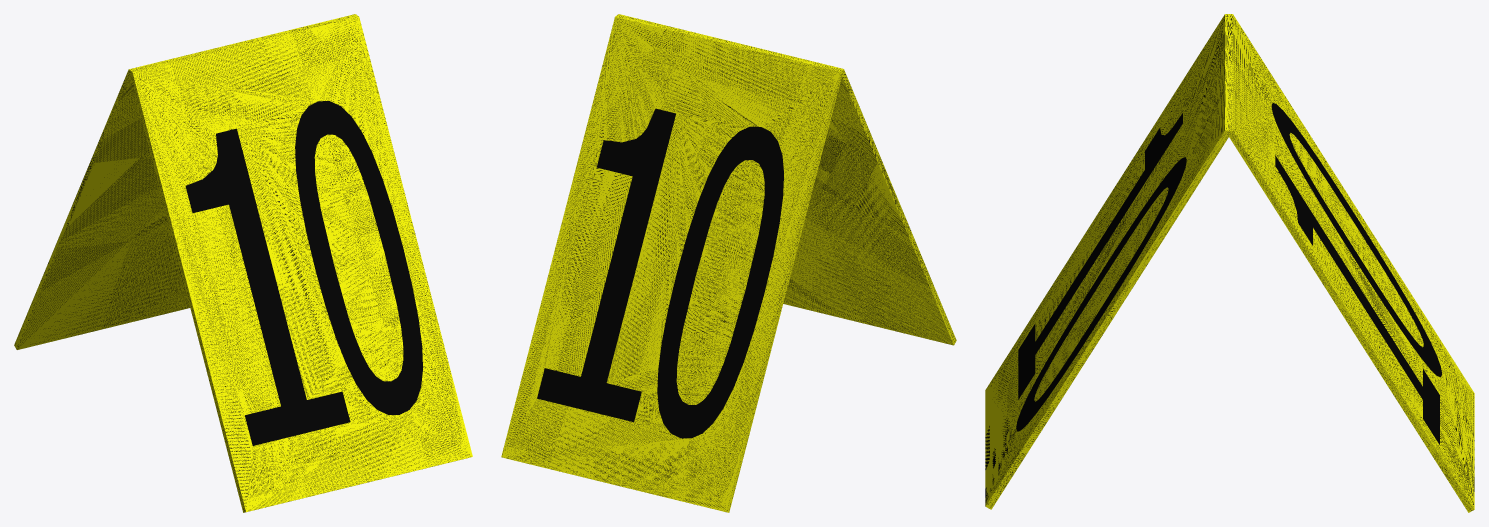
File: J_Ten.dae
3 renders of one model, left to right at view 1: azimuth 30°, elevation 25°; view 2: azimuth 150°, elevation 25°; view 3: azimuth 270°, elevation 25°, orthographic. The views are drawn at different scales.
Visible parts, largest first — view 1: skp6D76 (×5); view 2: skp6D76 (×5); view 3: skp6D76 (×9).
Part boxes in pixels (x1=…): skp6D76 (×5): x1=14, y1=14, x2=472, y2=512; skp6D76 (×5): x1=501, y1=14, x2=956, y2=512; skp6D76 (×9): x1=985, y1=14, x2=1474, y2=512.
Size of the model in its own units: 4 by 7.09 by 6.11.
